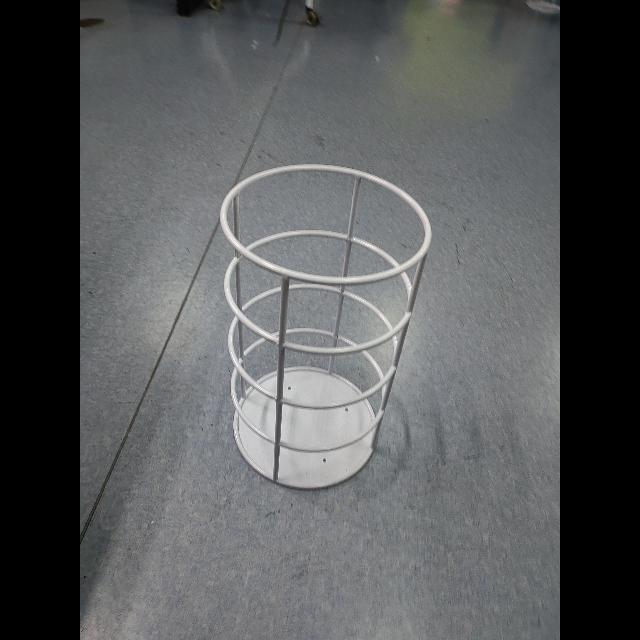S: (216, 161, 436, 494)
